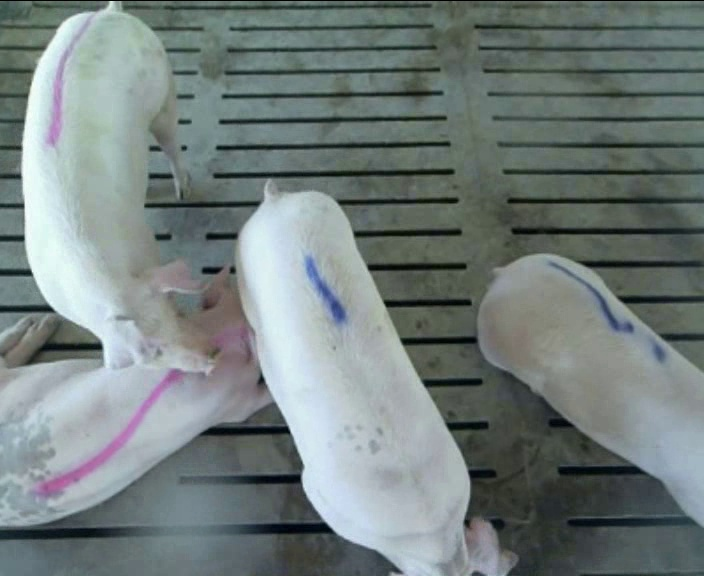pig: (239, 182, 515, 573), (22, 5, 221, 373), (0, 261, 270, 525), (478, 254, 703, 526)
